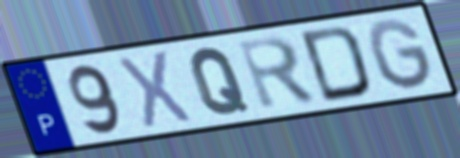9: (67, 61, 124, 136)
D: (297, 23, 375, 105)
G: (365, 16, 438, 93)
Q: (187, 45, 252, 118)
R: (233, 33, 322, 114)
X: (114, 47, 195, 131)
